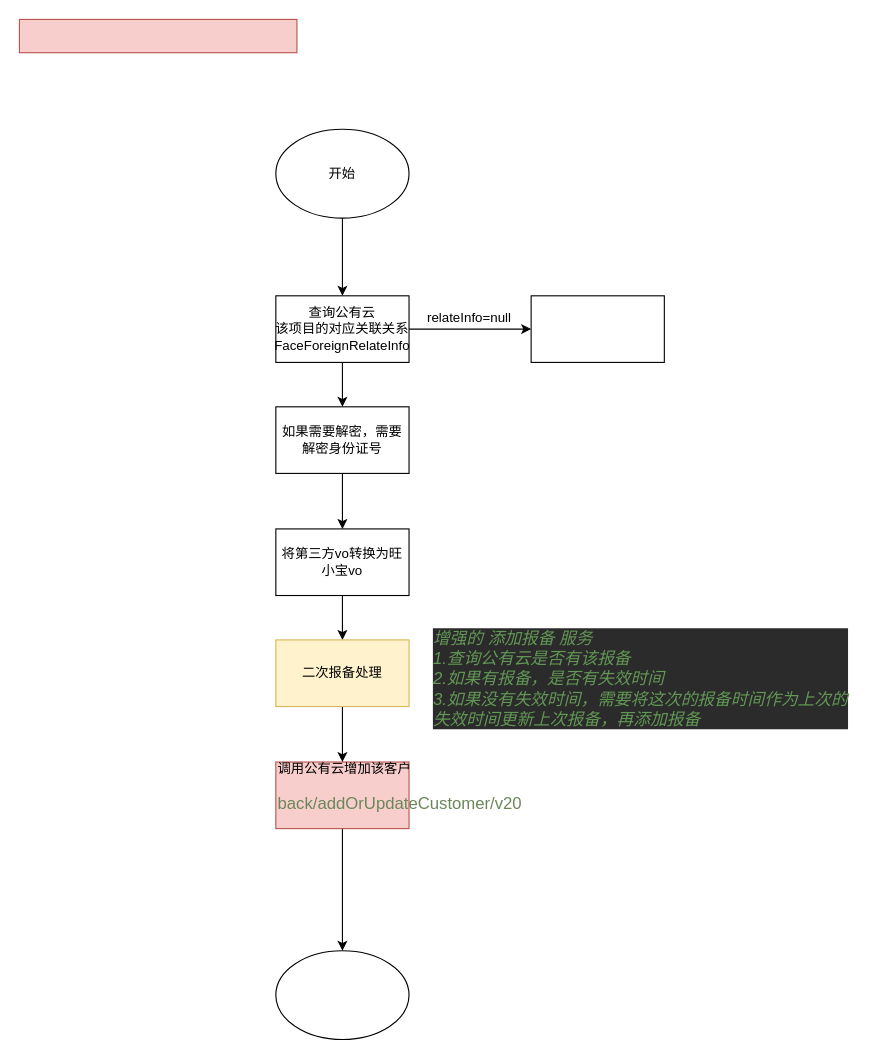
Image size: 884x1059. Some labels were removed from this diagram. Each missing label, with the centre of its shape:
third-face-detect： 1.客户导入2.0：addOrUpdateCustomer/v20: [157,35]
抛出异常：无该项目的关联关系: [597,328]
结束: [342,995]
